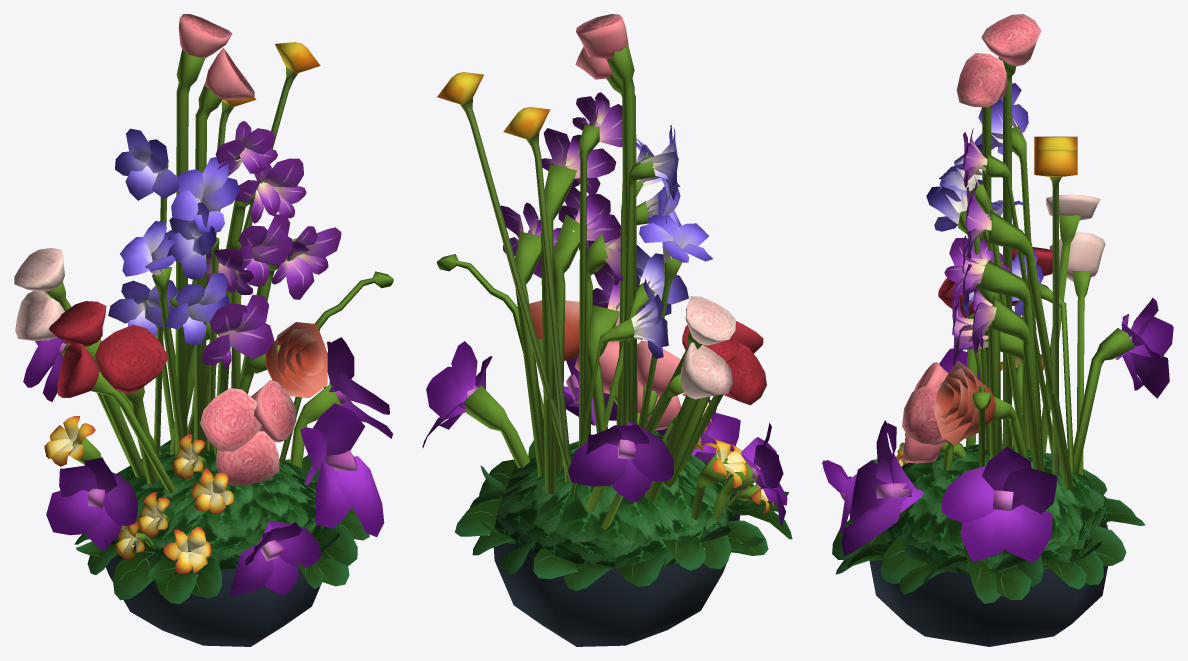
Rendered from Flower07.fbx.
3 renders of one model, left to right at view 1: azimuth 30°, elevation 25°; view 2: azimuth 150°, elevation 25°; view 3: azimuth 270°, elevation 25°, orthographic. The views are drawn at different scales.
Visible parts, largest first — view 1: Flower07m; view 2: Flower07m; view 3: Flower07m.
Boxes of the visible parts, bbox=[...] form: Flower07m: bbox=[14, 14, 393, 646]; Flower07m: bbox=[422, 14, 792, 646]; Flower07m: bbox=[822, 14, 1173, 646].
Size of the model in its own units: 5.13 by 8.66 by 4.5.
1 material, 1 textured.
